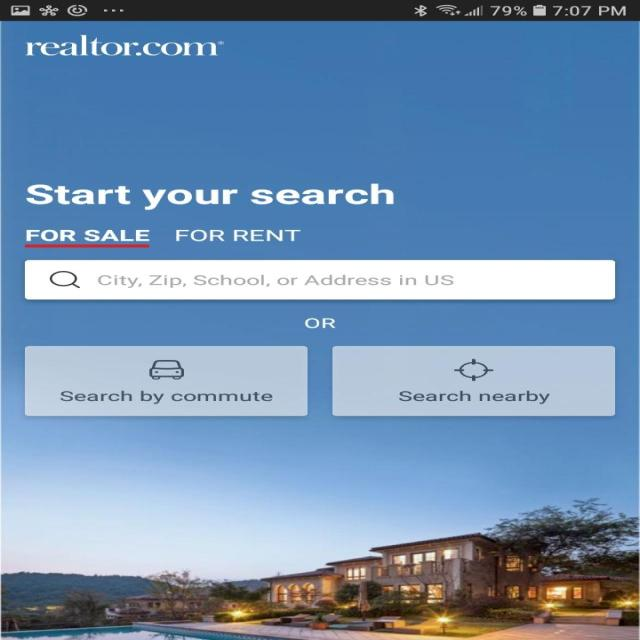BackgroundImage: (0, 21, 639, 639)
EditText: (24, 260, 614, 300)
Icon: (50, 271, 80, 288)
Text: (26, 183, 394, 210), (96, 274, 454, 288), (25, 35, 224, 56), (175, 229, 301, 242), (24, 229, 150, 242), (304, 317, 336, 328)
TextButton: (332, 345, 616, 416), (24, 345, 308, 416)
